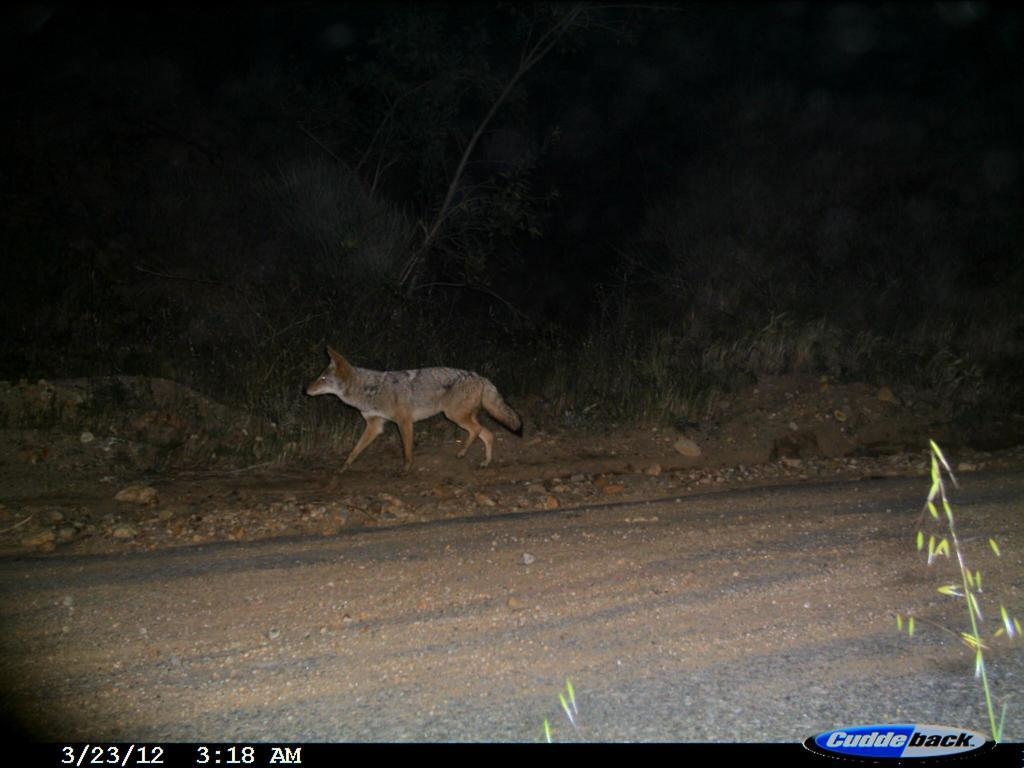coyote: (299, 340, 530, 478)
